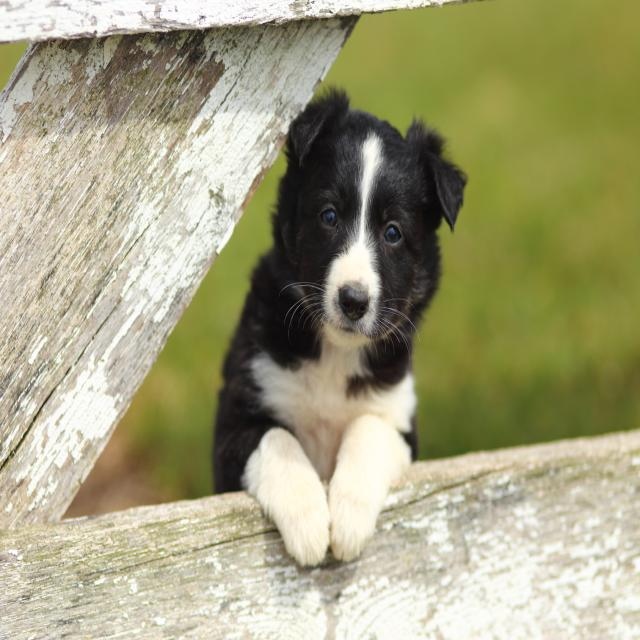ALASKAN_MALAMUTE: (203, 70, 481, 582)
